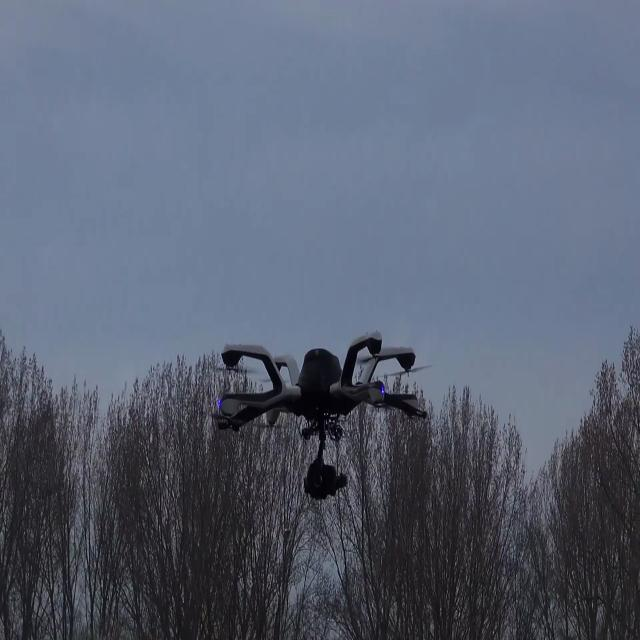drone: (211, 324, 432, 498)
